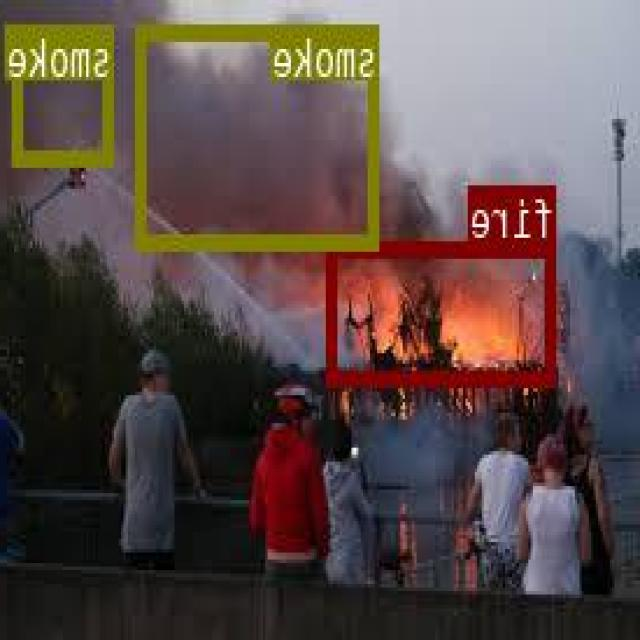fire: (329, 238, 556, 382)
smoke: (138, 24, 380, 246), (16, 21, 116, 163)
